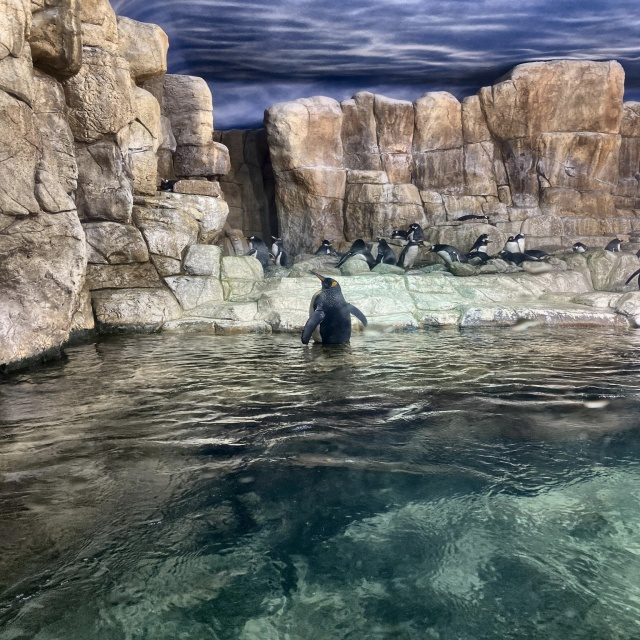penguin: (298, 272, 366, 349), (433, 244, 468, 270), (245, 234, 268, 272), (372, 236, 395, 271), (471, 234, 492, 268), (404, 220, 430, 247), (316, 237, 337, 260), (500, 236, 520, 260), (605, 231, 623, 257), (516, 234, 530, 256), (350, 238, 365, 256), (571, 244, 586, 258)
